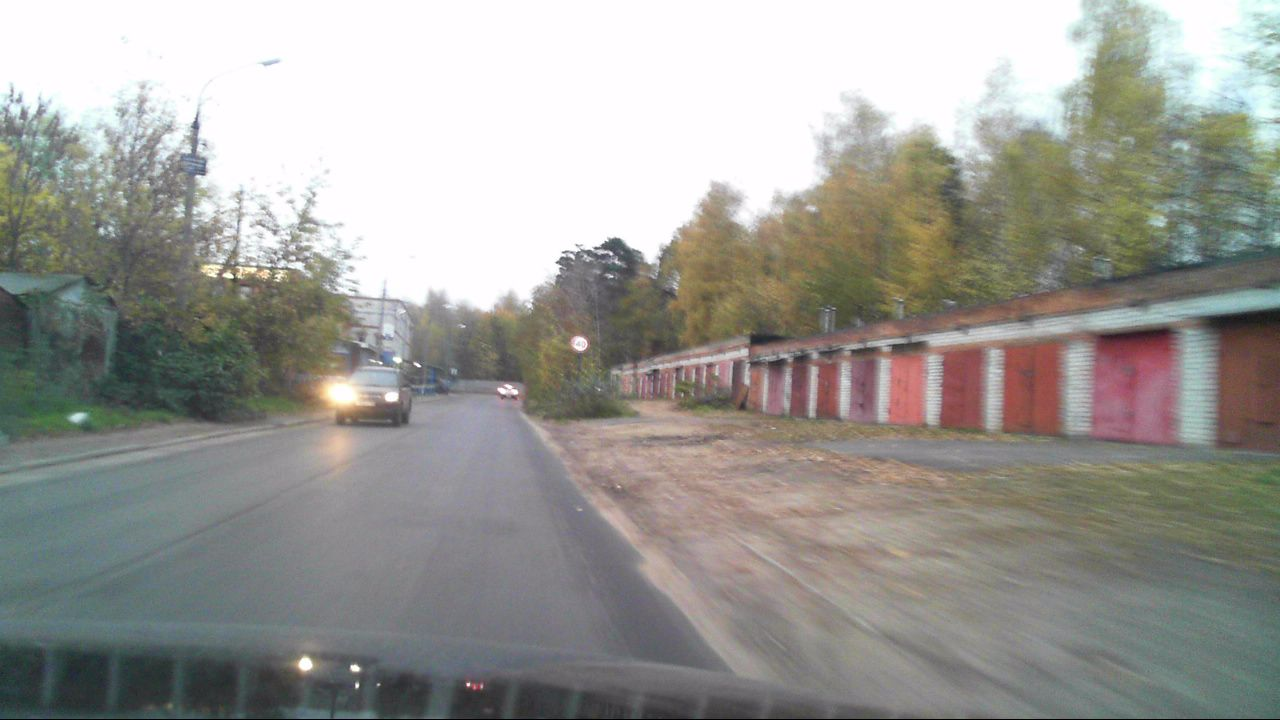speed_warning_40: (571, 336, 587, 352)
